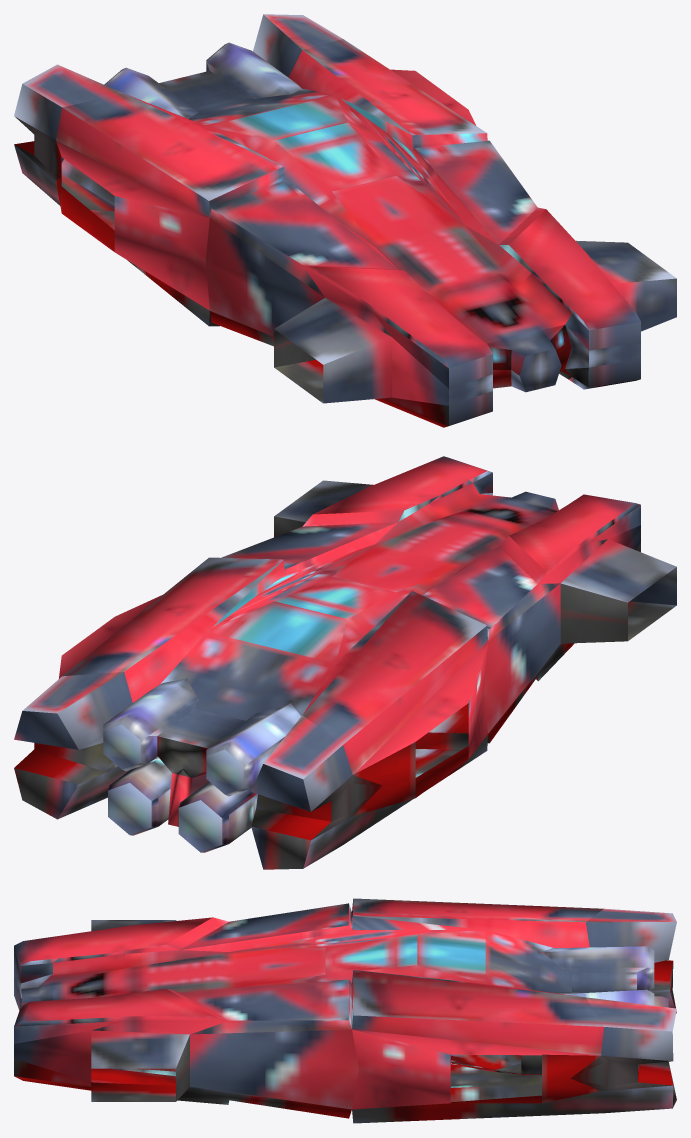
Rendered from Fury.obj.
3 renders of one model, top to bottom at view 1: azimuth 30°, elevation 25°; view 2: azimuth 150°, elevation 25°; view 3: azimuth 270°, elevation 25°, orthographic. The views are drawn at different scales.
Visible parts, largest first — view 1: body08; view 2: body08; view 3: body08.
Boxes of the visible parts, box(x1,y1,x2,y2) form: body08: box(14, 14, 676, 427); body08: box(14, 456, 676, 869); body08: box(14, 898, 676, 1123).
Bounding box in the file's own units: 50 × 21.32 × 94.15.
Materials: 1 (1 with a texture image).
